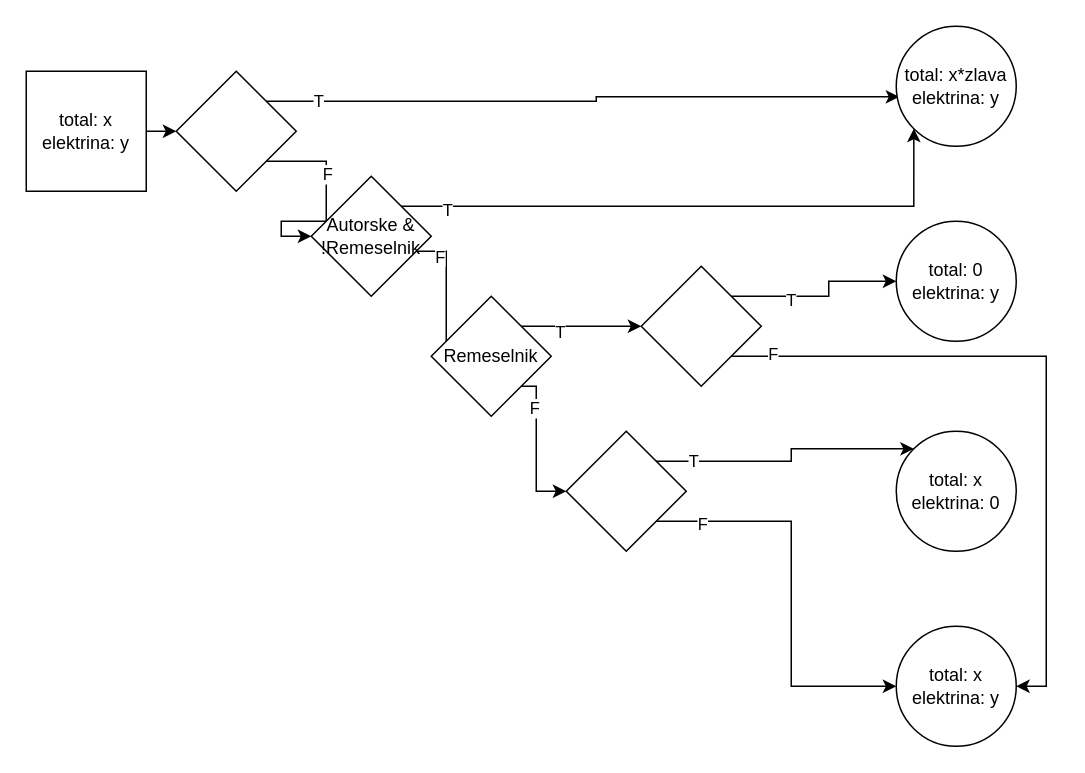
This 1085x773 diagram has some shape labels left out. Here are the shapes that lost their labels. From the top down, the centre of each, then its label:
At (x=235, y=130): "TZP".
At (x=700, y=325): "Autorske".
At (x=625, y=490): "Obcerstvenie".
